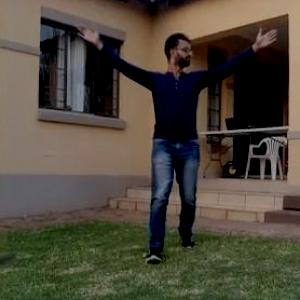takeoff: (76, 20, 274, 238)
